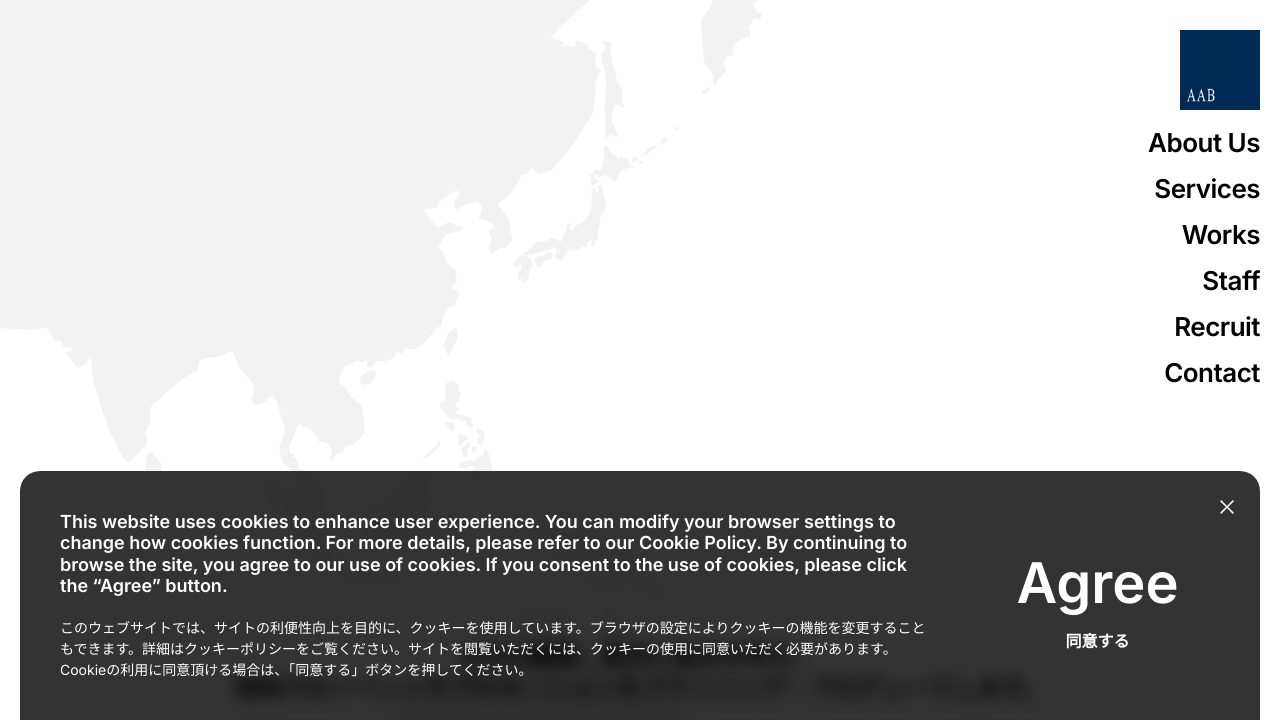
Test: Cookie Consent › should hide cookie consent after accepting
Expected: the text "This website uses cookies" is shown, [60,511,907,597]
Click the button "Agree 同意する" at (1098, 595), box [975,575,1220,615]
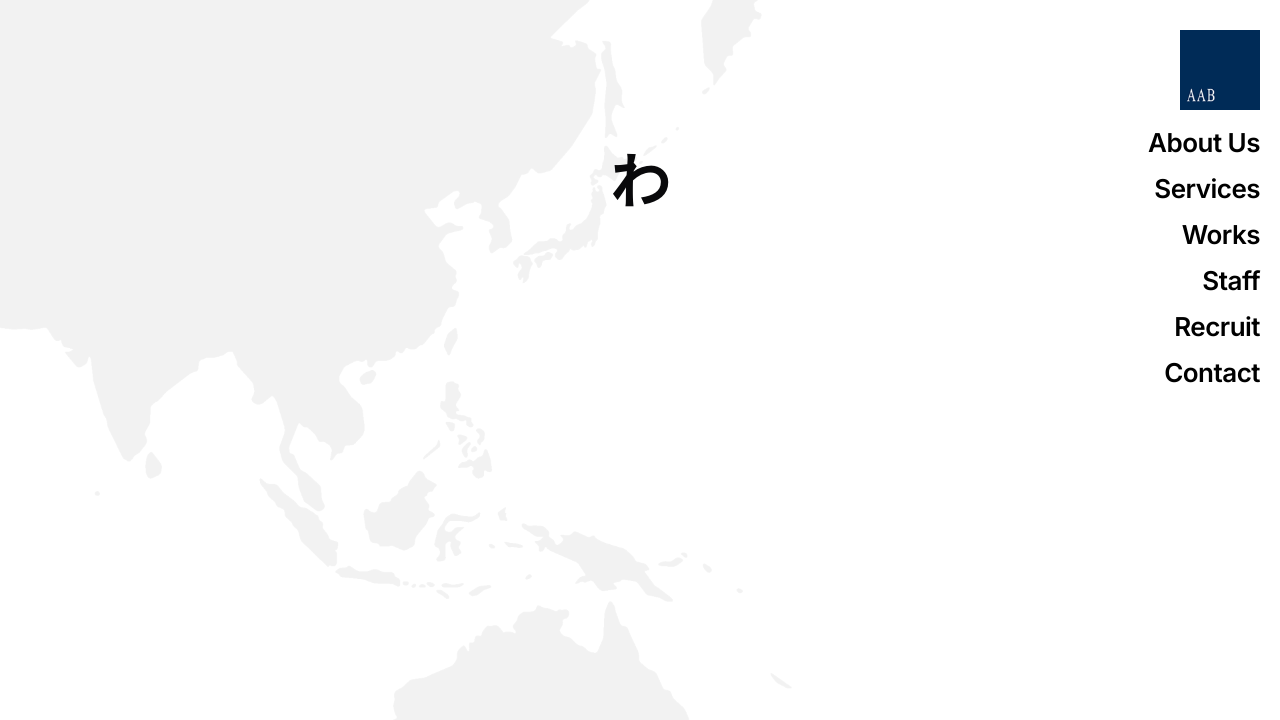
Result: the text "This website uses cookies" is gone
